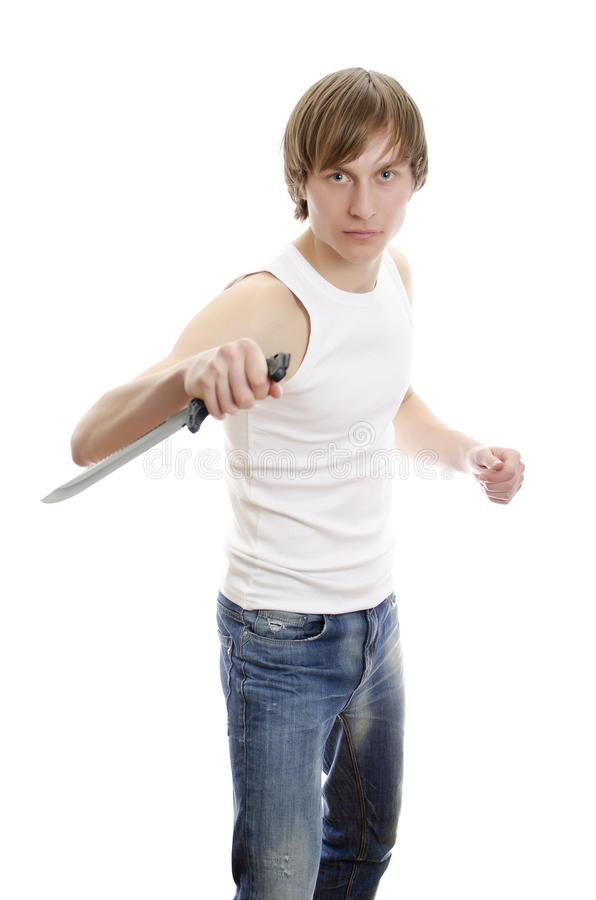criminal: (41, 60, 526, 900)
weapon: (41, 346, 294, 509)
